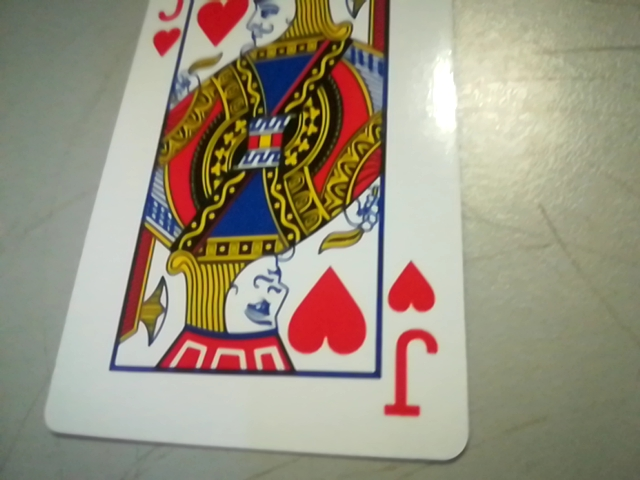hx j: (373, 253, 454, 430)
